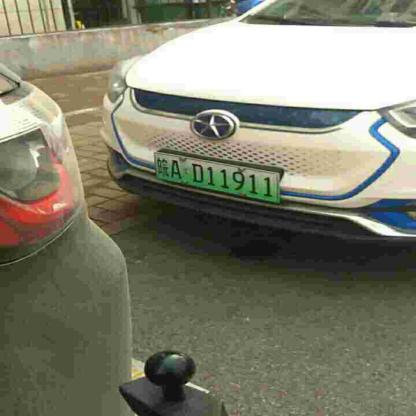lp: (154, 152, 279, 202)
